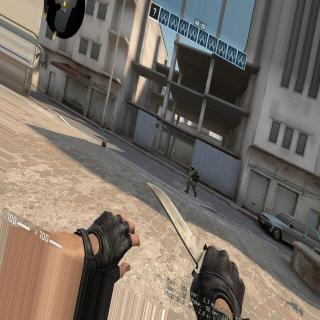CT-Body: (186, 163, 201, 194)
CT-Head: (191, 165, 195, 171)
